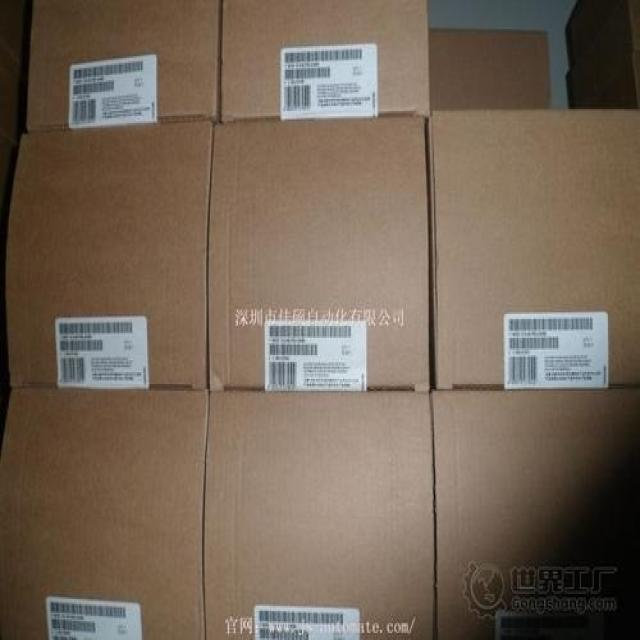box: (207, 116, 430, 391), (430, 108, 639, 390), (201, 389, 436, 638), (3, 122, 215, 390), (1, 387, 209, 638), (430, 389, 639, 638), (216, 0, 430, 123), (28, 1, 221, 131), (428, 30, 551, 108), (565, 0, 639, 108), (563, 0, 623, 70), (570, 51, 639, 106), (2, 35, 23, 215), (3, 1, 27, 64)
